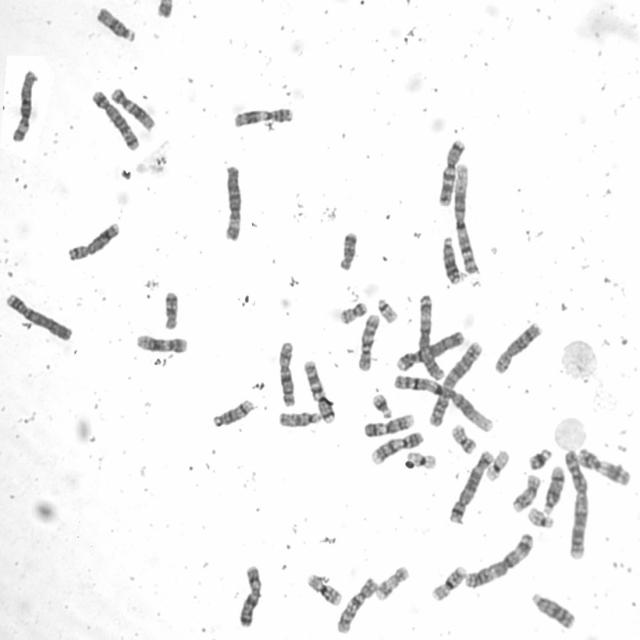A1: (390, 372, 494, 433), (451, 161, 480, 276)
A2: (426, 338, 483, 429), (561, 446, 590, 561)
A3: (462, 530, 536, 590), (416, 290, 446, 382)
B4: (4, 290, 74, 342), (394, 328, 466, 373)
B5: (447, 446, 494, 526), (89, 86, 141, 152)
C10: (335, 575, 378, 635), (355, 310, 382, 374)
C11: (575, 445, 632, 488), (230, 104, 294, 128)
C12: (108, 84, 156, 132), (134, 332, 188, 354)
C6: (10, 68, 38, 144), (221, 162, 244, 242)
C7: (301, 356, 337, 425), (436, 134, 466, 208)
C8: (492, 318, 542, 376), (66, 219, 121, 262)
C9: (369, 428, 426, 466), (361, 411, 415, 438)
D13: (528, 590, 577, 631), (439, 232, 462, 285)
D14: (210, 395, 255, 429), (541, 464, 566, 516)
D15: (94, 5, 138, 44), (276, 407, 324, 429)
E16: (429, 562, 468, 602), (304, 571, 344, 607)
E17: (373, 562, 411, 602), (509, 472, 542, 514)
E18: (336, 228, 359, 272), (161, 287, 179, 330)
F19: (484, 447, 511, 482), (404, 449, 438, 470)
F20: (337, 298, 369, 326), (450, 424, 478, 455)
G21: (370, 390, 394, 420), (526, 445, 553, 471)
G22: (525, 504, 556, 530), (375, 296, 399, 325)
X: (235, 562, 264, 629), (276, 338, 297, 409)
